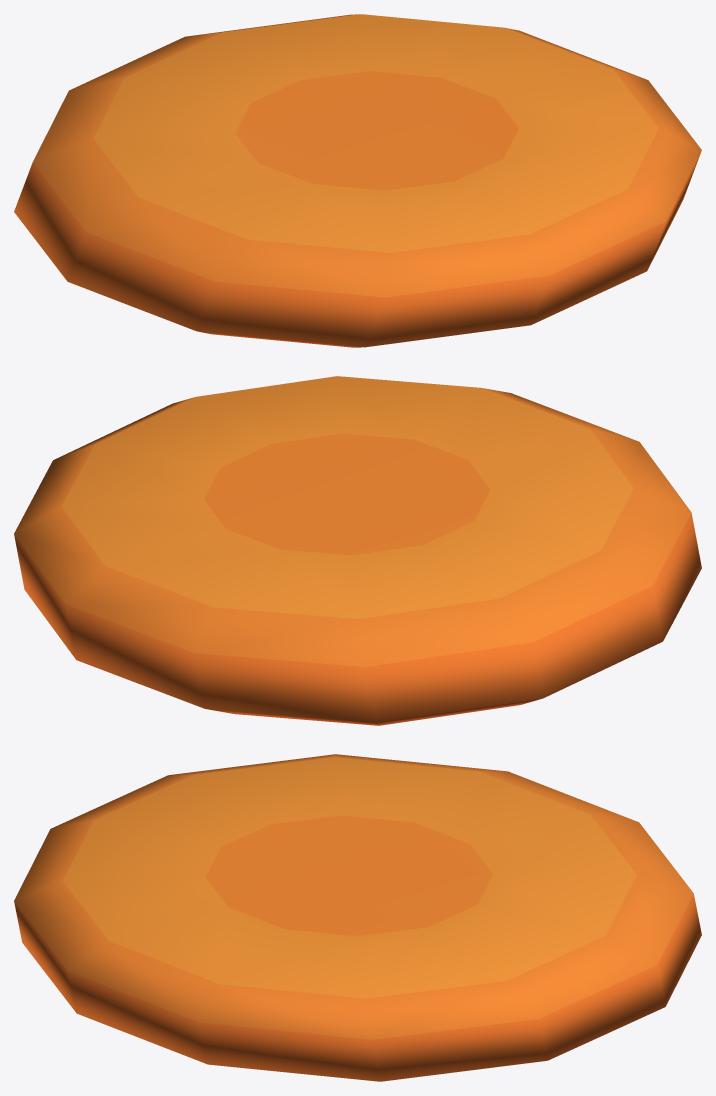
Rendered from carrot_cut.glb.
3 views of the same model, one above another, from view 1: azimuth 30°, elevation 25°; view 2: azimuth 150°, elevation 25°; view 3: azimuth 270°, elevation 25° (orthographic).
Parts seen in each view (by area): view 1: food_ingredient_carrot_pieces; view 2: food_ingredient_carrot_pieces; view 3: food_ingredient_carrot_pieces.
Part boxes in pixels (left/top/right/bottom): food_ingredient_carrot_pieces: left=14, top=14, right=701, bottom=347; food_ingredient_carrot_pieces: left=14, top=376, right=701, bottom=725; food_ingredient_carrot_pieces: left=14, top=754, right=701, bottom=1081.
Size of the model in its own units: 4.25 by 0.6925 by 4.27.
Materials: 1 (1 with a texture image).
